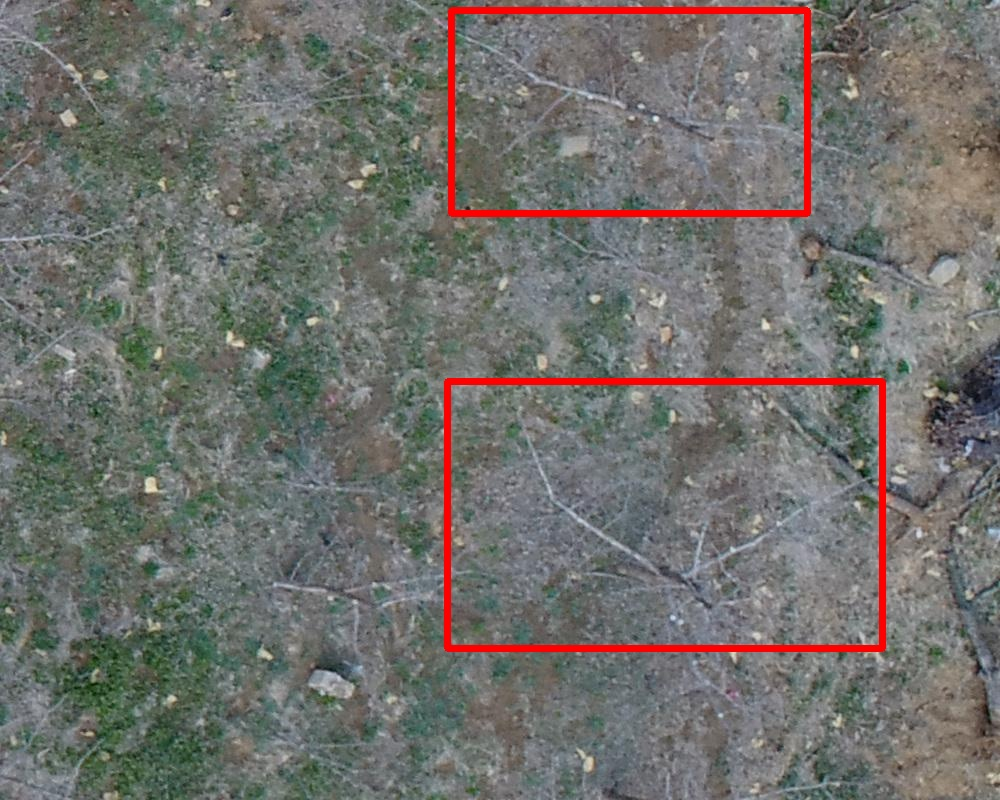apple: (447, 381, 882, 648), (451, 10, 807, 213)
